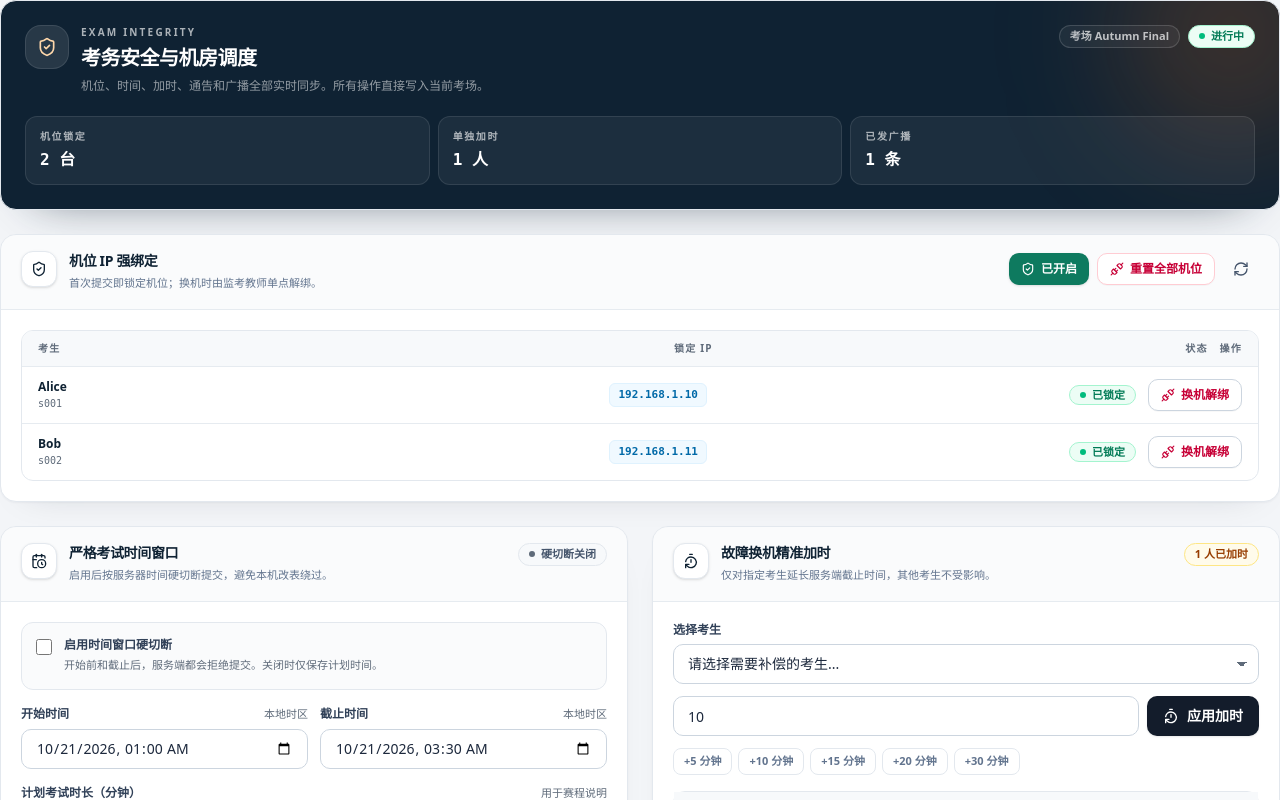
Test: TeacherSecurityPanel › renders IP bindings and requires confirmation before unbinding a participant
Expected: the text "192.168.1.10" is shown, left=609, top=383, right=707, bottom=407
Expected: the text "Alice" is shown, left=38, top=378, right=67, bottom=395
Click the button "换机解绑" in the row of "192.168.1.10". click: (1195, 395)
box: left=1148, top=379, right=1242, bottom=411
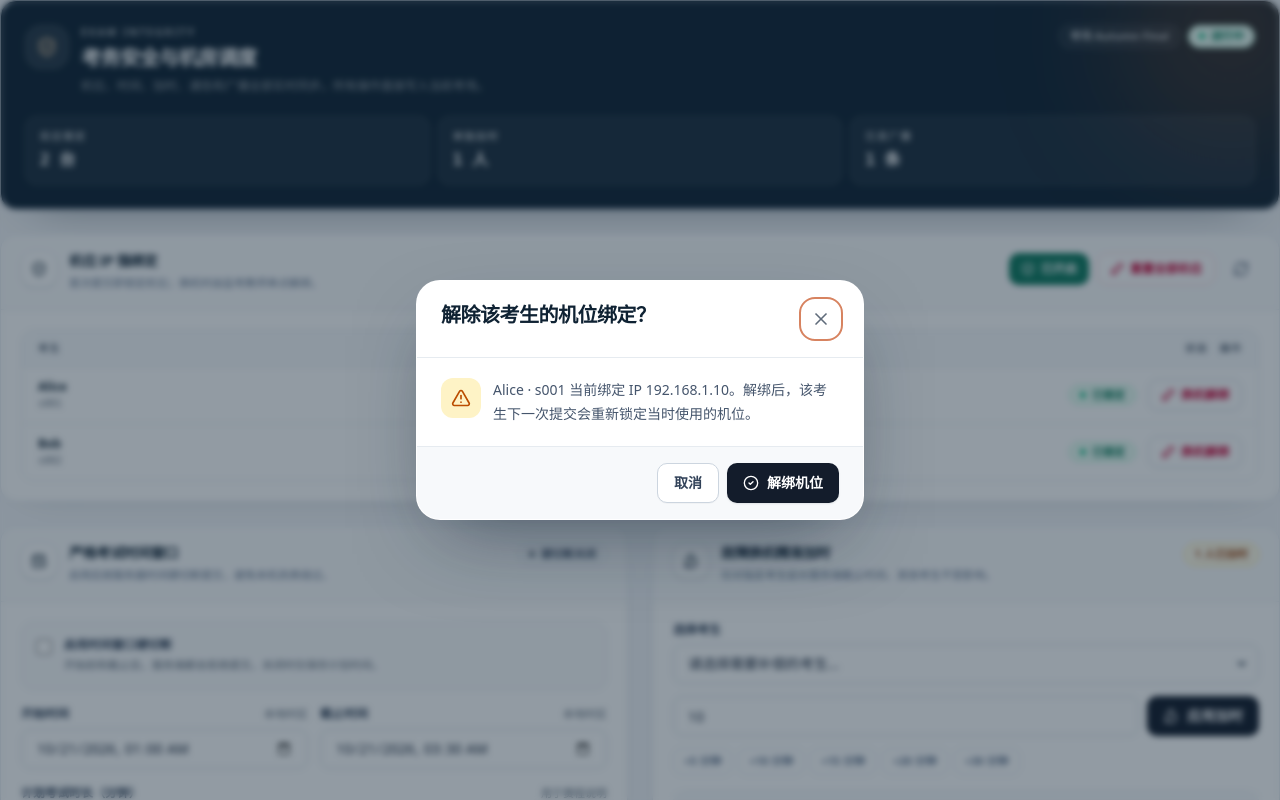
Result: the text "Alice · s001 当前绑定 IP 192.168.1.10。解绑后，该考生下一次提交会重新锁定当时使用的机位。" is shown at left=493, top=378, right=839, bottom=426
Click the button "解绑机位". click: (783, 483)
box: left=727, top=463, right=839, bottom=503
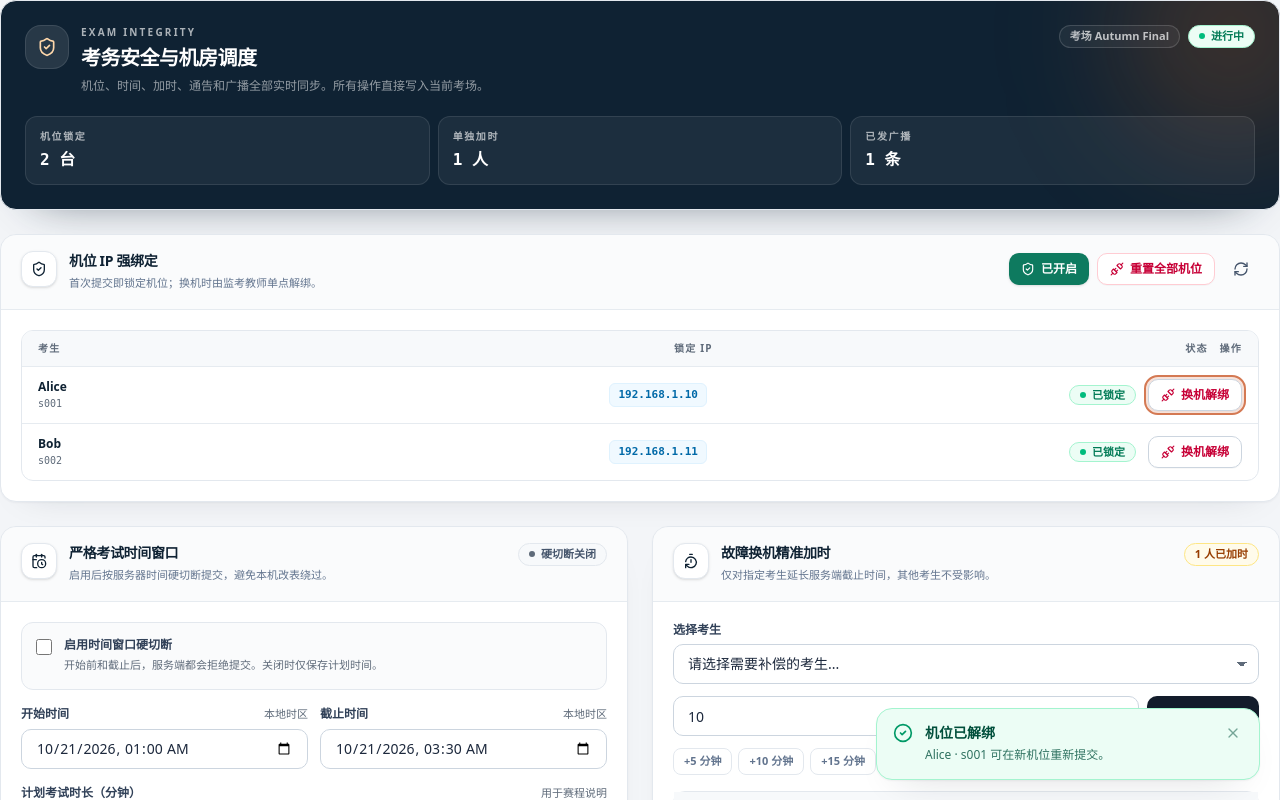
Result: the dialog is gone
Result: the text "机位已解绑" is shown at left=925, top=723, right=995, bottom=742
